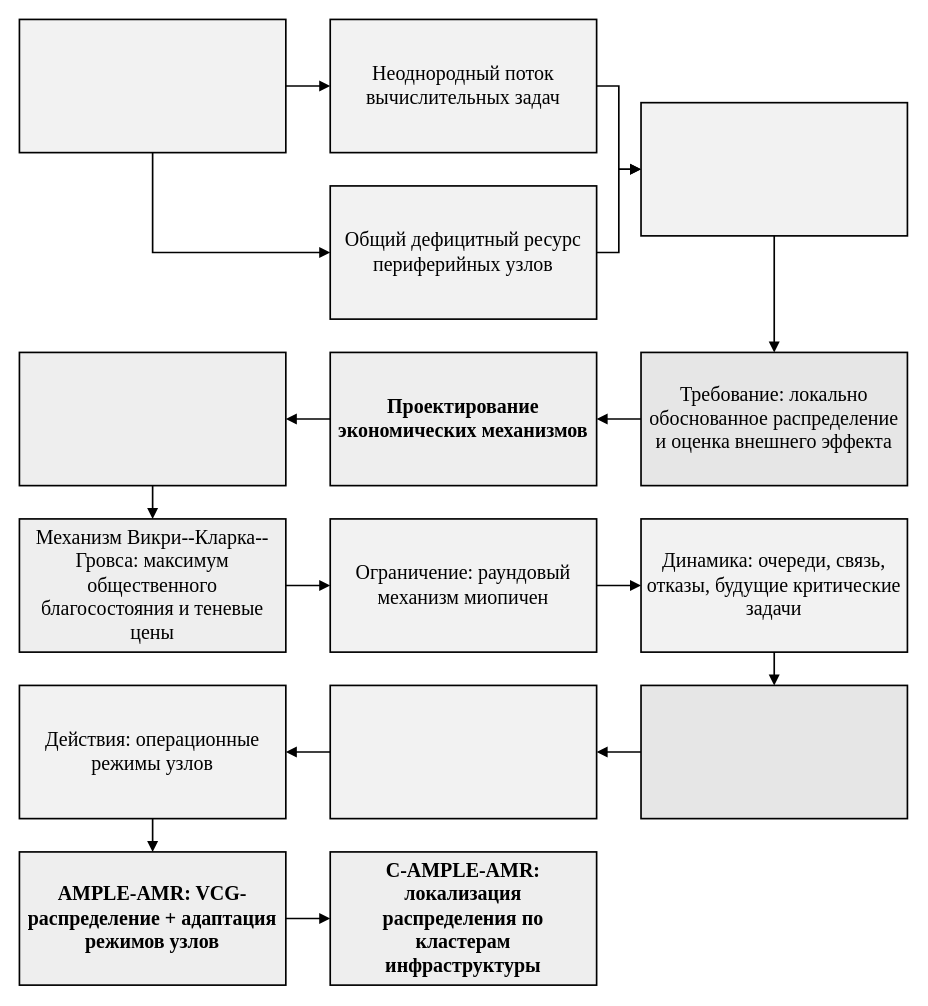
This 928x1006 diagram has some shape labels left out. The centre of each missing label's shape, as x and y in pixels:
АМР-система с периферийными вычислениями: [152,85]
Аукцион: заявки задач + стоимости узлов + задача выбора распределения: [152,418]
Внешний эффект назначения задачи: [774,168]
Обучаемые агенты: периферийные узлы: [463,751]
Требование: адаптация без изменения заявок и функций полезности: [774,751]
